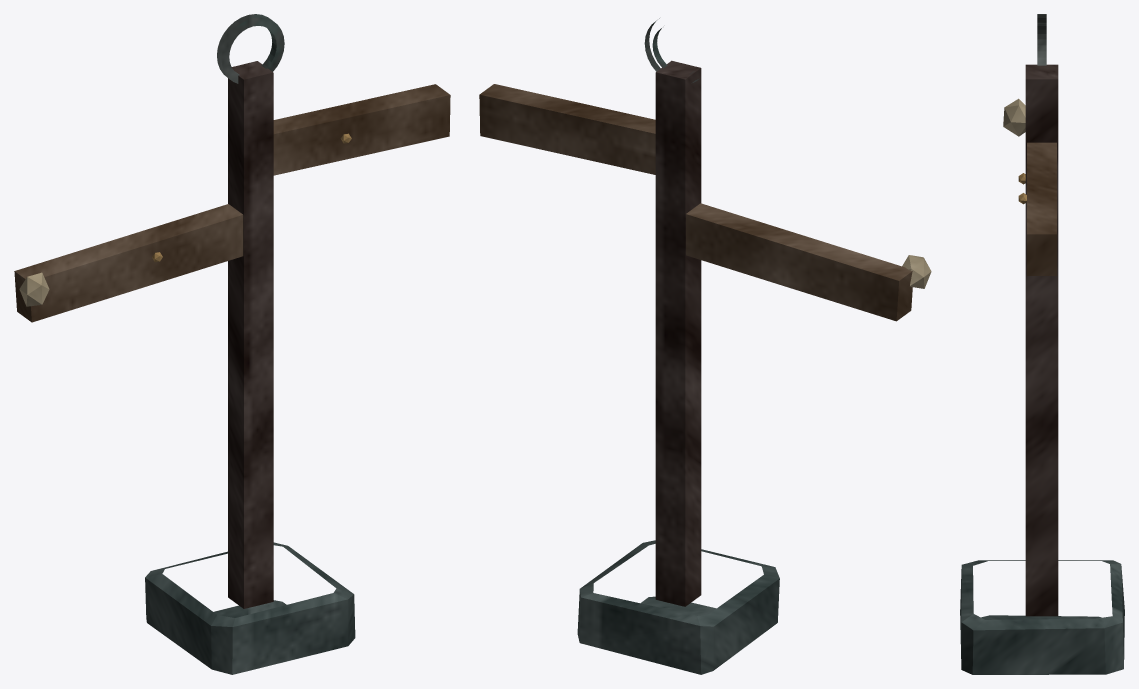
Rendered from 0635_signpost_10.glb.
3 renders of one model, left to right at view 1: azimuth 30°, elevation 25°; view 2: azimuth 150°, elevation 25°; view 3: azimuth 270°, elevation 25°, orthographic.
Visible parts, largest first — view 1: wood_dark, wood, stone_dark, iron, bone; view 2: wood_dark, wood, stone_dark; view 3: wood_dark, stone_dark, wood, bone, iron.
Part boxes in pixels (<box>): wood_dark: <box>228,61,273,608</box>; wood: <box>14,84,450,322</box>; stone_dark: <box>145,542,355,674</box>; iron: <box>217,14,284,83</box>; bone: <box>19,272,49,306</box>; wood_dark: <box>655,60,701,606</box>; wood: <box>479,84,912,321</box>; stone_dark: <box>577,540,779,674</box>; wood_dark: <box>1025,64,1058,616</box>; stone_dark: <box>960,560,1124,674</box>; wood: <box>1027,142,1056,275</box>; bone: <box>1003,98,1025,136</box>; iron: <box>1037,14,1046,65</box>.
Bounding box in the file's own units: 2.18 × 3 × 0.712.
Materials: 6 (6 with a texture image).
